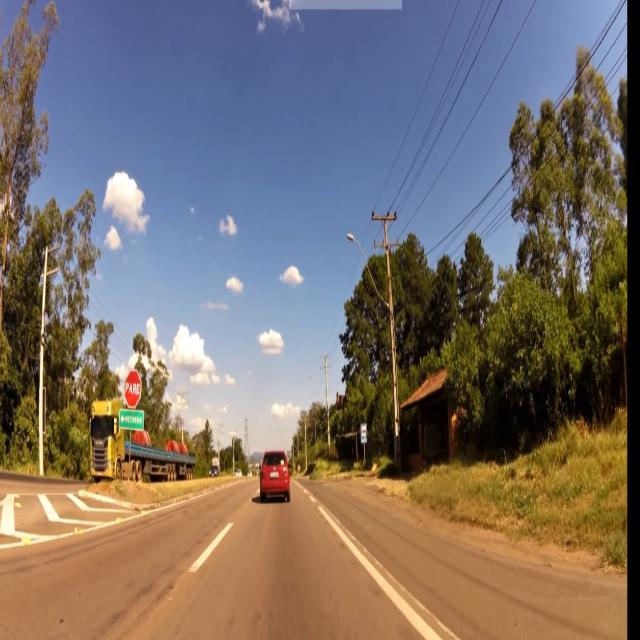R-1: (121, 371, 144, 408)
